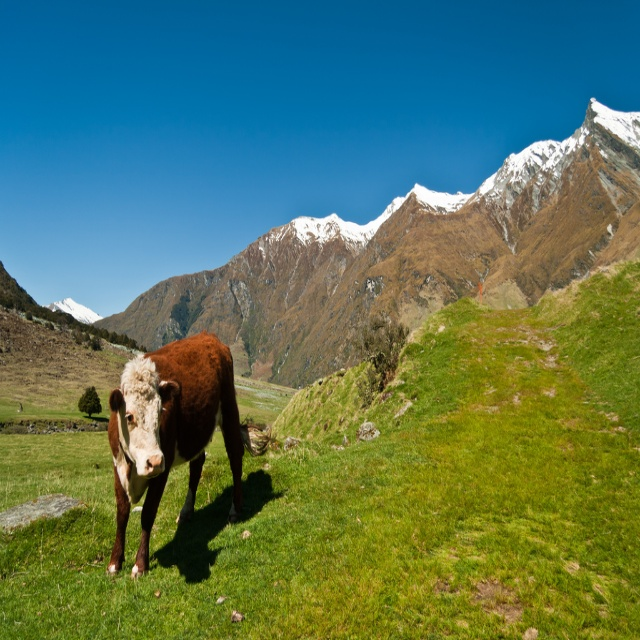Cattle: (91, 328, 236, 579)
